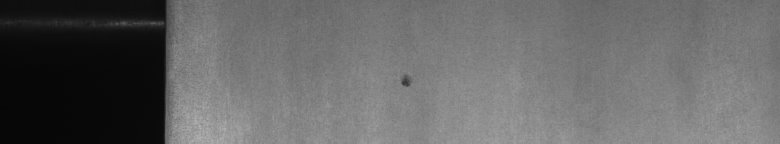fi: (396, 70, 413, 92)
